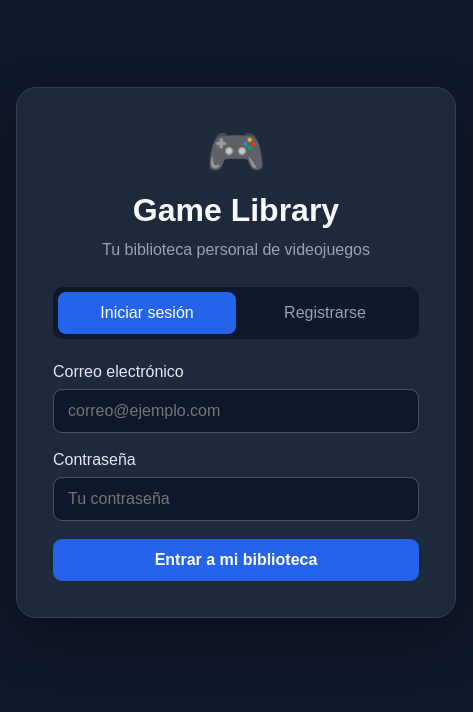
Test: Game Library - componente App (biblioteca) › informa que el correo ya está registrado (409) al crear la cuenta
Click the button "Registrarse": click(325, 312) [236, 292, 414, 334]
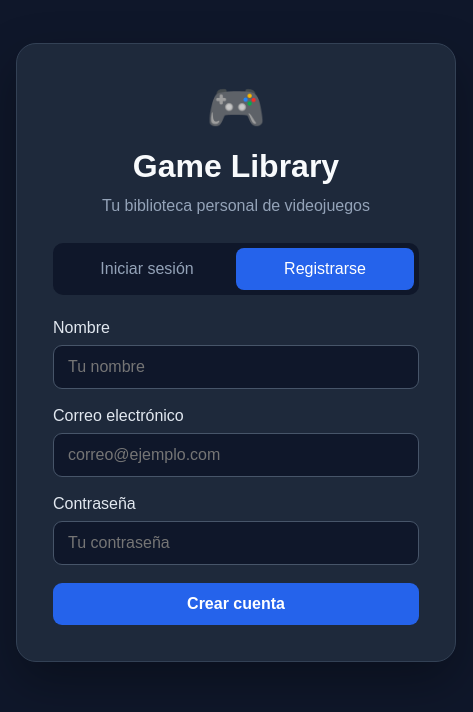
In the field labelled "Nombre": (236, 366) [53, 344, 419, 388], type "Ana"
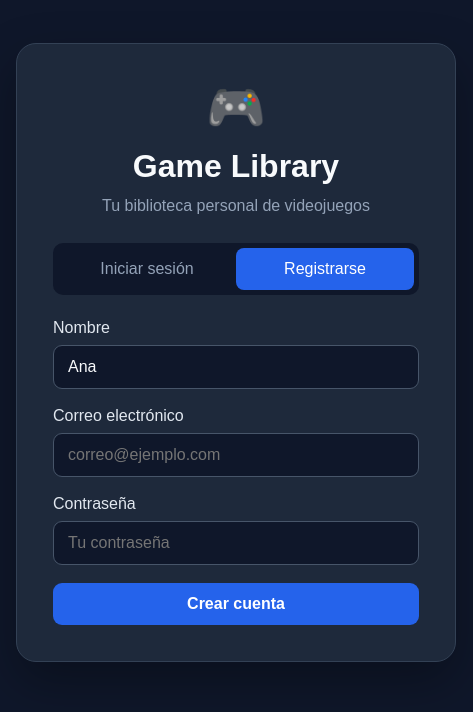
In the field labelled "Correo electrónico": (236, 454) [53, 432, 419, 476], type "ana@example.com"
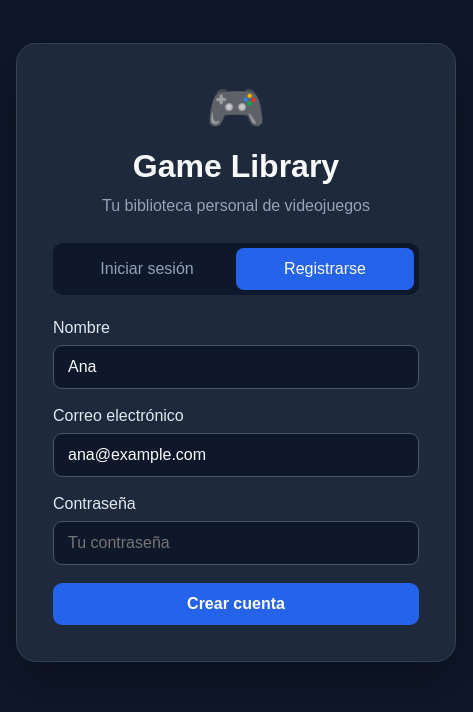
In the password field labelled "Contraseña": (236, 542) [53, 520, 419, 564], type "Prueba12345!"
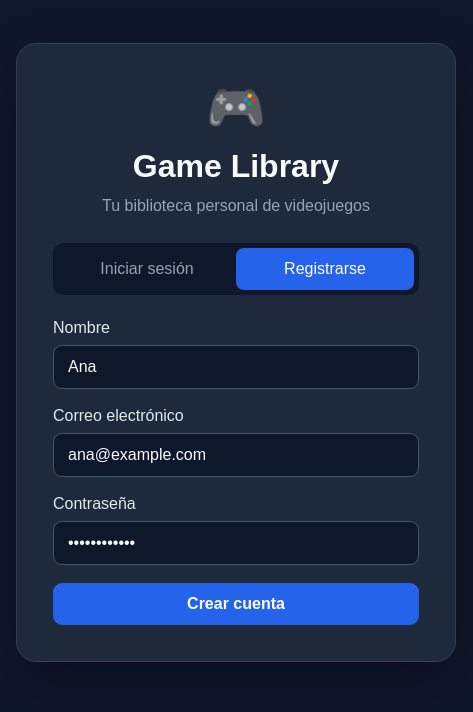
Click the button "Crear cuenta": click(236, 604) [53, 582, 419, 624]
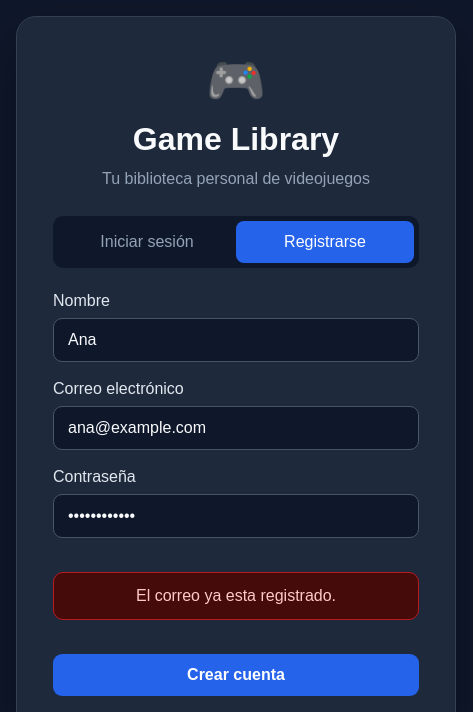
Expected: the message shows "El correo ya esta registrado", [136, 587, 336, 604]
